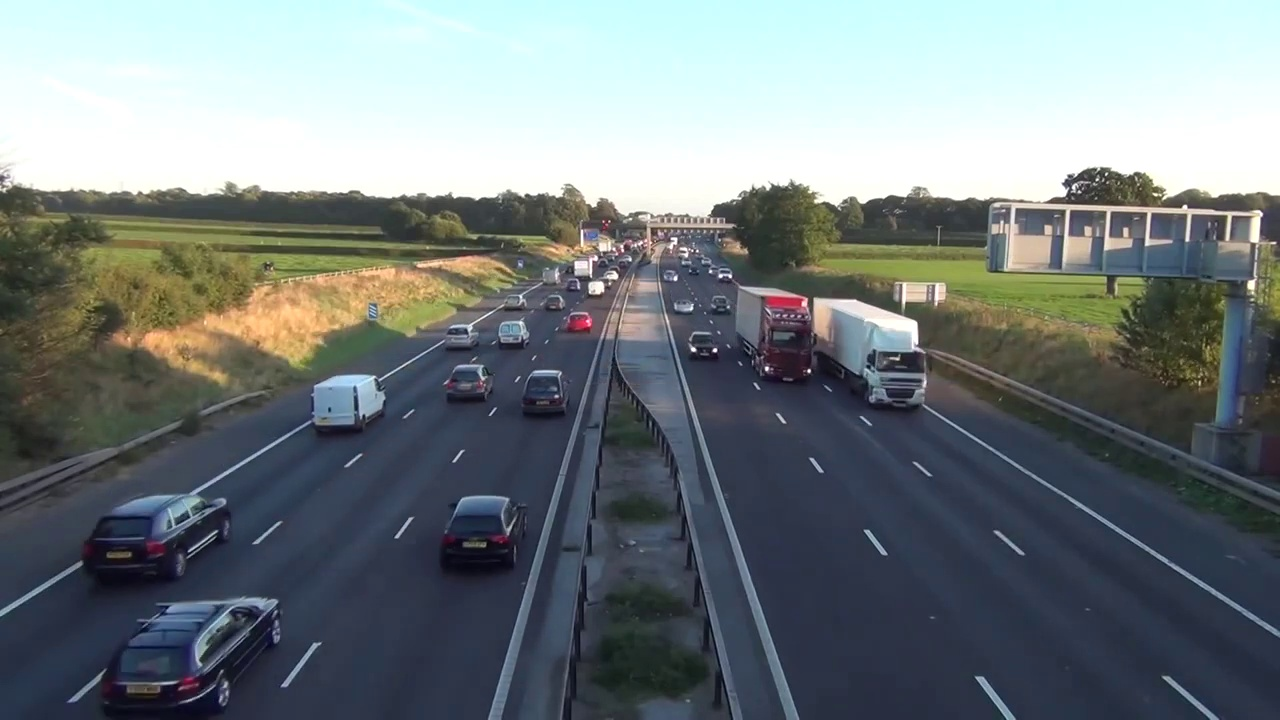bus: (102, 597, 280, 712), (83, 495, 231, 580), (440, 495, 529, 565), (522, 369, 574, 417), (444, 364, 494, 402), (688, 331, 720, 361), (444, 324, 480, 349), (567, 311, 591, 331), (711, 294, 732, 316), (673, 298, 694, 314), (503, 296, 525, 310), (544, 295, 564, 310), (661, 269, 679, 282), (565, 279, 579, 290)
car: (814, 297, 926, 409), (734, 286, 812, 381), (573, 259, 592, 280)
lorry: (310, 375, 386, 433), (498, 319, 530, 347), (586, 281, 605, 296), (717, 268, 734, 282)
